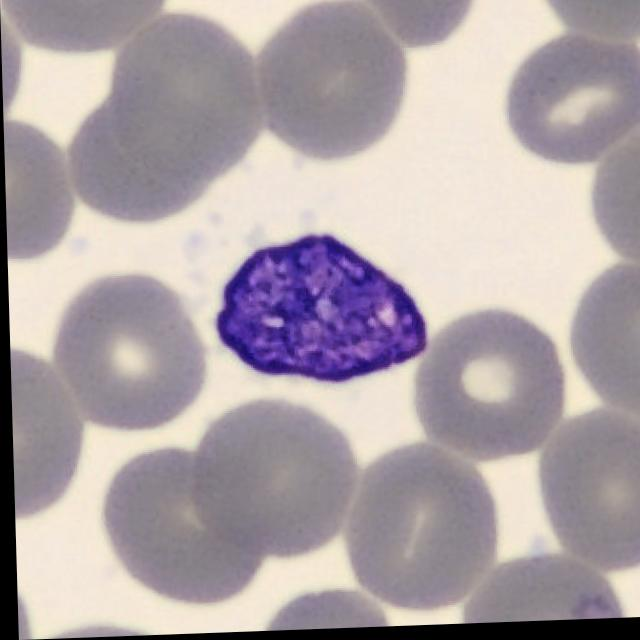Linfocito: (218, 238, 422, 383)
